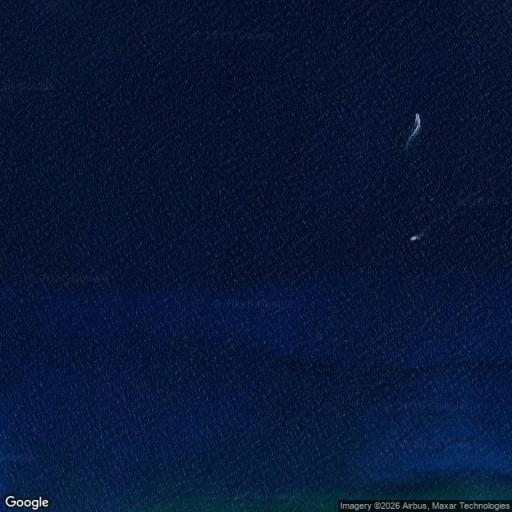ship: (414, 106, 424, 136)
